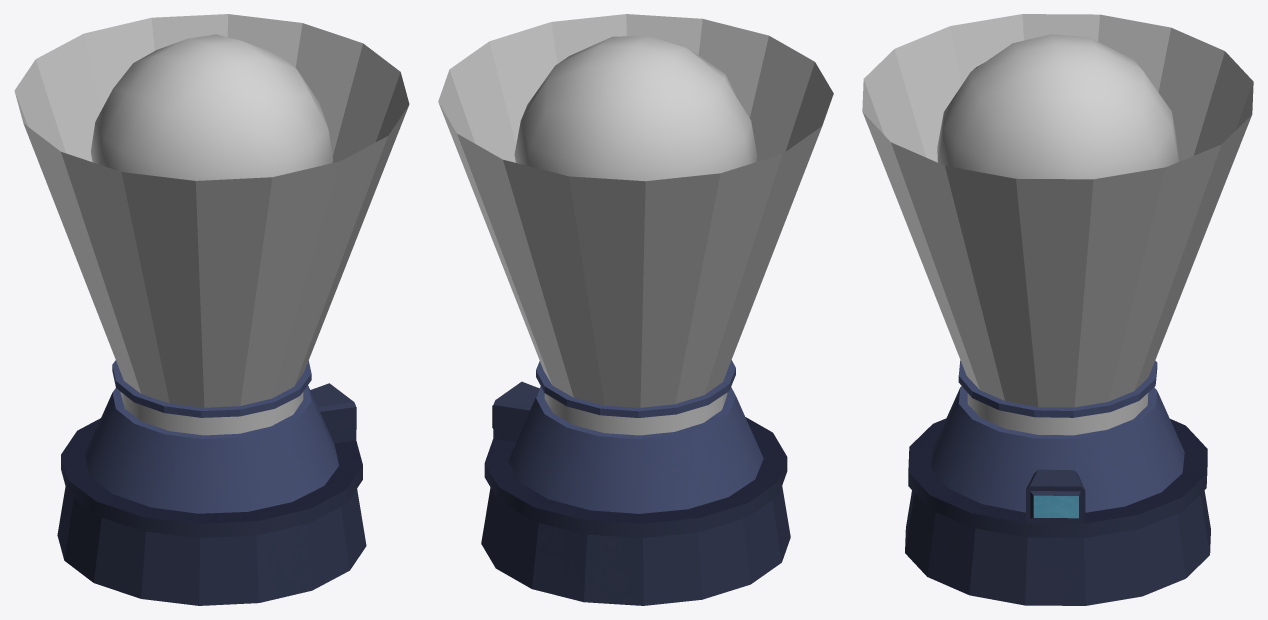
File: earthholo.fbx
3 renders of one model, left to right at view 1: azimuth 30°, elevation 25°; view 2: azimuth 150°, elevation 25°; view 3: azimuth 270°, elevation 25°, orthographic.
Parts seen in each view (by area): view 1: pasted__pCylinder40, pasted__pCylinder57, pasted__pPlatonic1; view 2: pasted__pCylinder40, pasted__pCylinder57, pasted__pPlatonic1; view 3: pasted__pCylinder40, pasted__pCylinder57, pasted__pPlatonic1.
Boxes of the visible parts, box(x1,y1,x2,y2) form: pasted__pCylinder40: box(14, 14, 409, 435); pasted__pCylinder57: box(57, 360, 366, 605); pasted__pPlatonic1: box(91, 34, 332, 180); pasted__pCylinder40: box(438, 14, 833, 435); pasted__pCylinder57: box(481, 360, 790, 605); pasted__pPlatonic1: box(514, 36, 757, 181); pasted__pCylinder40: box(862, 14, 1253, 435); pasted__pCylinder57: box(905, 360, 1210, 605); pasted__pPlatonic1: box(937, 34, 1178, 179).
Bounding box in the file's own units: 48.93 × 68.53 × 48.93.
